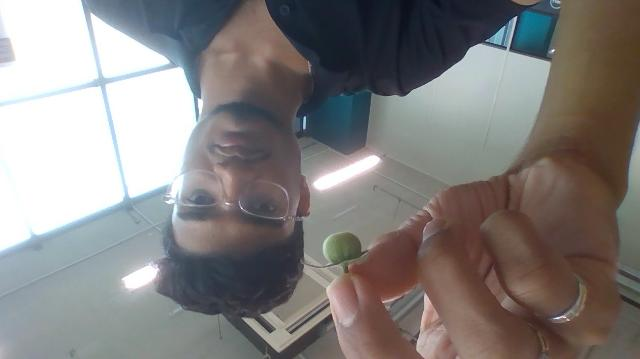Fruit Maturation: (322, 230, 363, 266)
